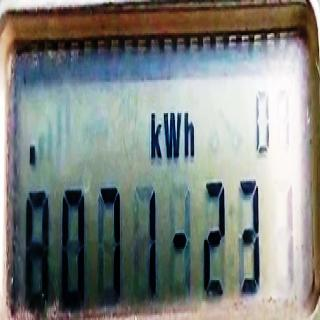-: (171, 225, 190, 257), (28, 142, 37, 170)
0: (57, 183, 88, 315), (252, 80, 273, 160)
1: (282, 175, 300, 294), (146, 187, 161, 300)
2: (200, 172, 228, 302)
3: (236, 172, 266, 304)
7: (97, 171, 126, 307)
8: (20, 180, 52, 318)
